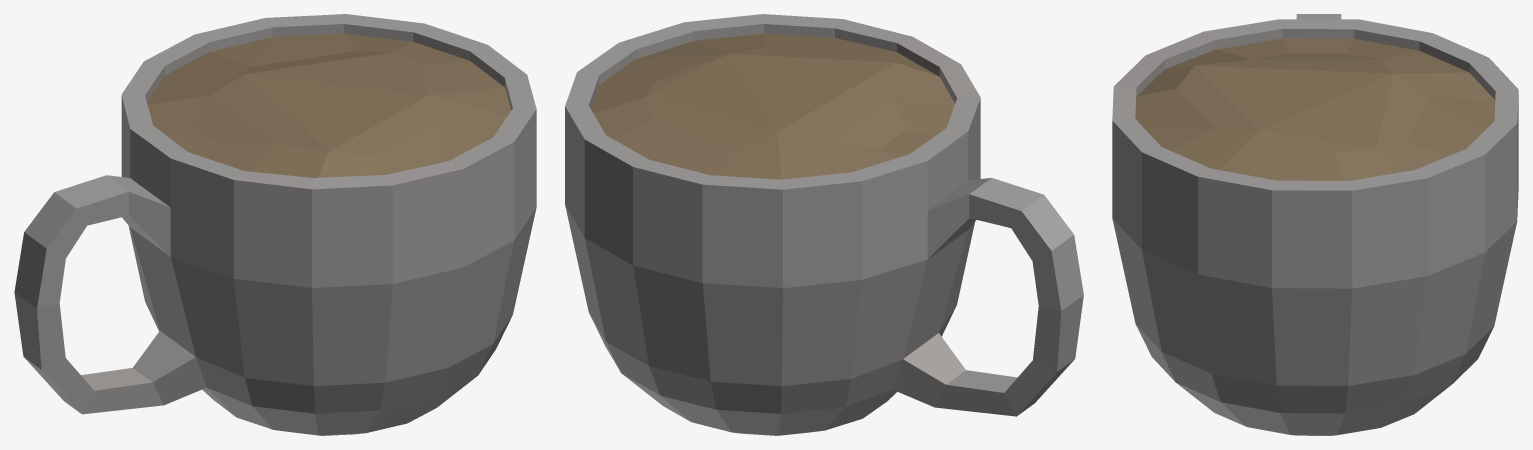
File: sign_coffee.glb
3 views of the same model, side by side, from view 1: azimuth 30°, elevation 25°; view 2: azimuth 150°, elevation 25°; view 3: azimuth 270°, elevation 25° (orthographic).
Parts seen in each view (by area): view 1: SM_Prop_LargeSign_Coffee_01; view 2: SM_Prop_LargeSign_Coffee_01; view 3: SM_Prop_LargeSign_Coffee_01.
Part boxes in pixels (<box>): SM_Prop_LargeSign_Coffee_01: <box>14,14,536,435</box>; SM_Prop_LargeSign_Coffee_01: <box>565,14,1083,435</box>; SM_Prop_LargeSign_Coffee_01: <box>1112,14,1518,435</box>.
Size of the model in its own units: 2.19 by 1.35 by 1.63.
1 material, 1 textured.
